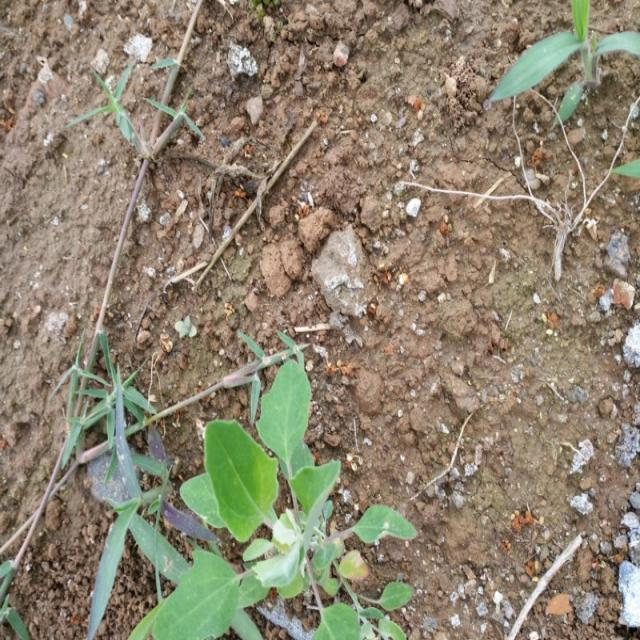ca: (152, 363, 416, 640)
